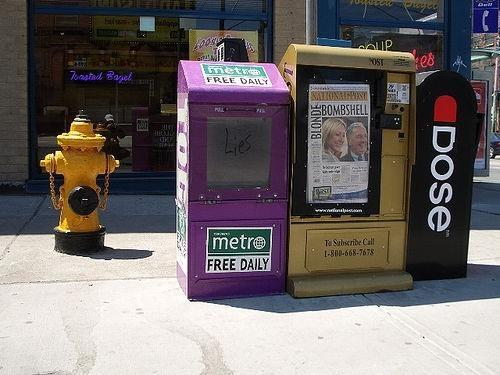car: (490, 132, 500, 159)
